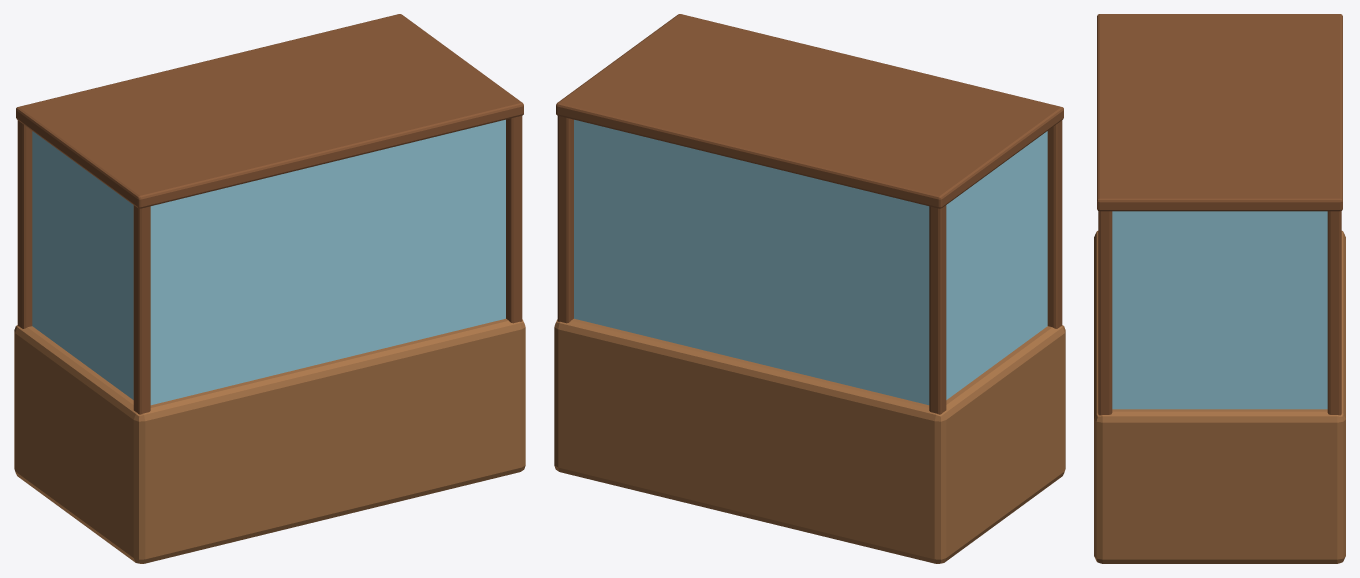
3 views of the same model, side by side, from view 1: azimuth 30°, elevation 25°; view 2: azimuth 150°, elevation 25°; view 3: azimuth 270°, elevation 25° (orthographic).
Parts seen in each view (by area): view 1: be-ca-1, be-ca-0, be-ca-7, be-ca-4, be-ca-6, be-ca-3; view 2: be-ca-1, be-ca-0, be-ca-7, be-ca-3, be-ca-5, be-ca-4; view 3: be-ca-7, be-ca-1, be-ca-0, be-ca-5, be-ca-6.
Part boxes in pixels (left/top/right/bottom): be-ca-1: left=32, top=119, right=505, bottom=405; be-ca-0: left=14, top=318, right=525, bottom=563; be-ca-7: left=16, top=14, right=523, bottom=208; be-ca-4: left=133, top=205, right=150, bottom=414; be-ca-6: left=506, top=116, right=522, bottom=323; be-ca-3: left=17, top=120, right=32, bottom=328; be-ca-1: left=574, top=119, right=1047, bottom=405; be-ca-0: left=554, top=318, right=1065, bottom=563; be-ca-7: left=556, top=14, right=1063, bottom=208; be-ca-3: left=929, top=205, right=946, bottom=414; be-ca-5: left=557, top=116, right=573, bottom=323; be-ca-4: left=1047, top=120, right=1062, bottom=328; be-ca-7: left=1097, top=14, right=1342, bottom=211; be-ca-1: left=1112, top=211, right=1327, bottom=409; be-ca-0: left=1094, top=231, right=1345, bottom=563; be-ca-5: left=1327, top=211, right=1341, bottom=415; be-ca-6: left=1098, top=211, right=1112, bottom=415.
Size of the model in its own units: 1.6 by 1.44 by 0.9.
